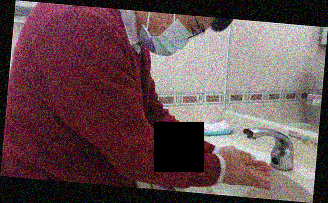with_mask: (137, 14, 209, 59)
